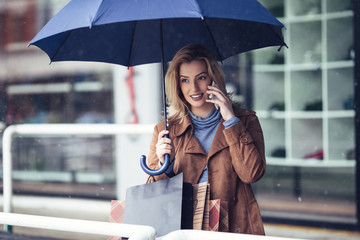phone: (206, 80, 225, 108)
talk: (179, 72, 236, 119)
